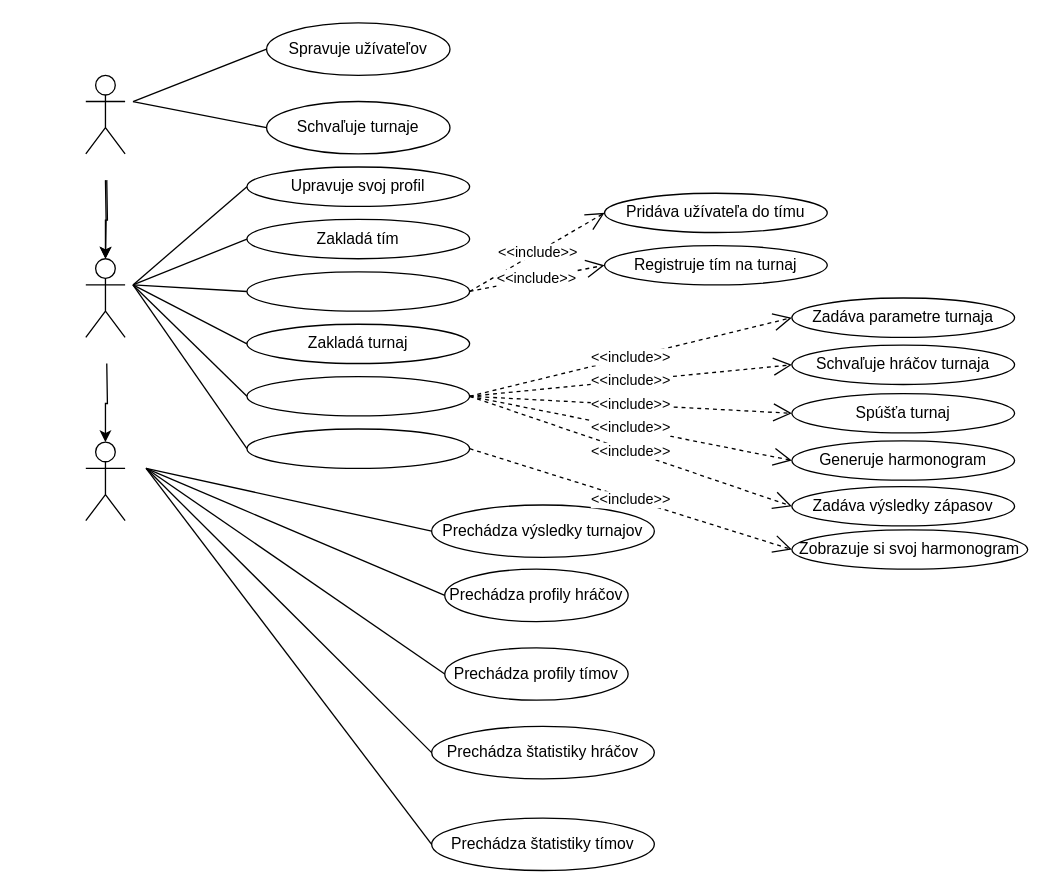
The diagram is 1051 pixels wide and 893 high, and some of its shapes have lost their labels. Here are the shapes that lost their labels. From the top down, the centre of each, then its label:
(x=104, y=114): Administrátor
(x=104, y=297): Registrovaný užívateľ
(x=358, y=291): Spravuje tím
(x=358, y=395): Spravuje turnaj
(x=358, y=448): Zúčastní sa turnaja
(x=104, y=481): Neregistrovaný užívateľ
